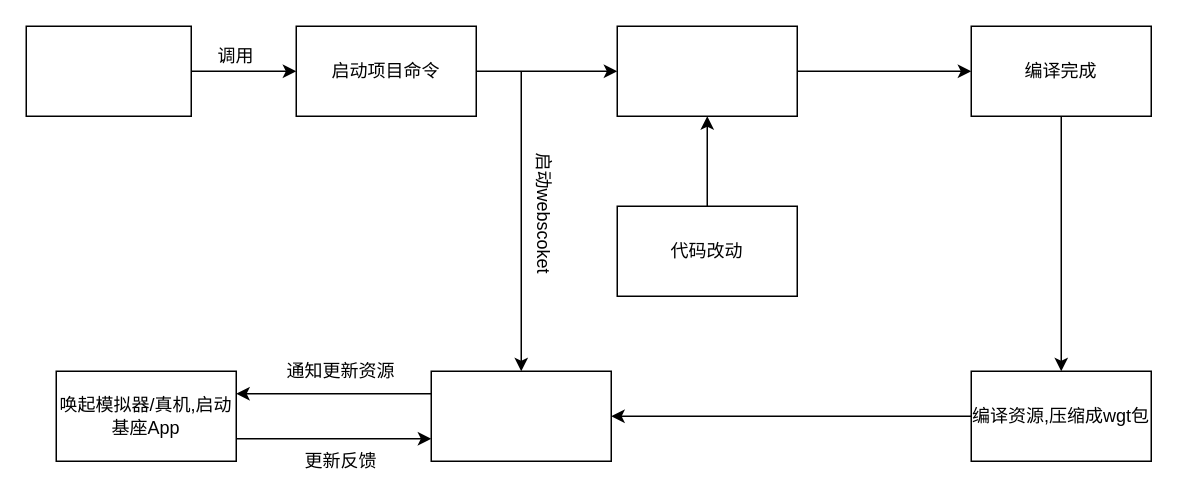
Image size: 1178x503. Some labels were removed from this diagram. The shapes that lost their labels are listed below. From the top down, each one's centre as x and y in pixels, then its label:
At (x=108, y=70): "脚本".
At (x=706, y=70): "webpack 编译".
At (x=520, y=415): "webscoket 服务".
